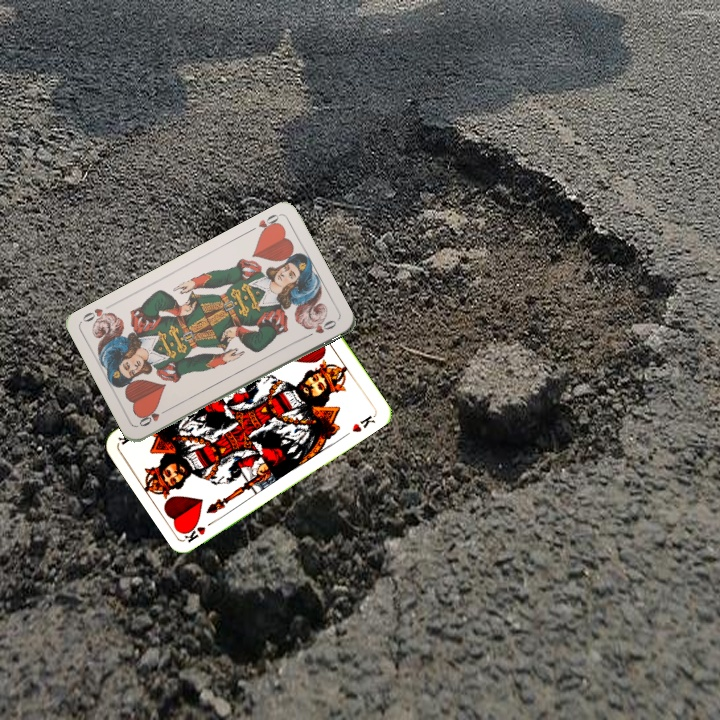HK: (182, 515, 220, 545)
HO: (245, 210, 284, 238), (135, 404, 172, 429)
